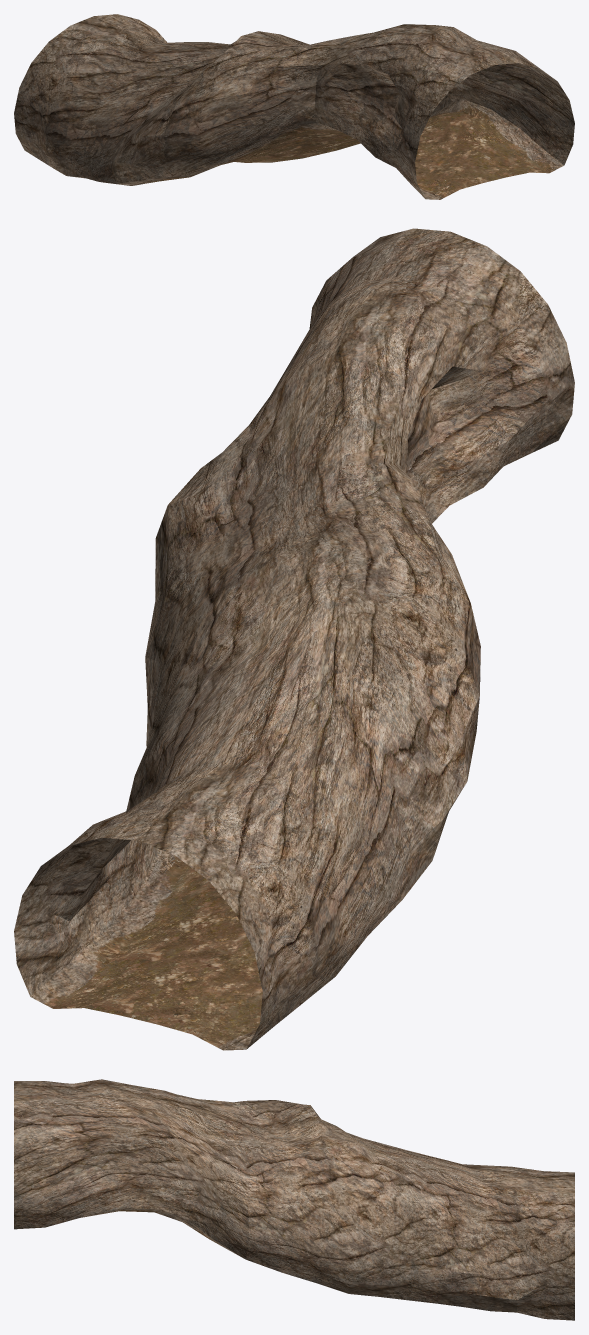
File: CaveCorridorStraightDown.obj
3 renders of one model, top to bottom at view 1: azimuth 30°, elevation 25°; view 2: azimuth 150°, elevation 25°; view 3: azimuth 270°, elevation 25°, orthographic. The views are drawn at different scales.
Parts seen in each view (by area): view 1: CaveCorridorStraightDown; view 2: CaveCorridorStraightDown; view 3: CaveCorridorStraightDown.
Boxes of the visible parts, <box> form: CaveCorridorStraightDown: <box>14,14,574,199</box>; CaveCorridorStraightDown: <box>14,228,574,1050</box>; CaveCorridorStraightDown: <box>14,1079,574,1320</box>.
Bounding box in the file's own units: 5.32 × 5.12 × 10.4.
